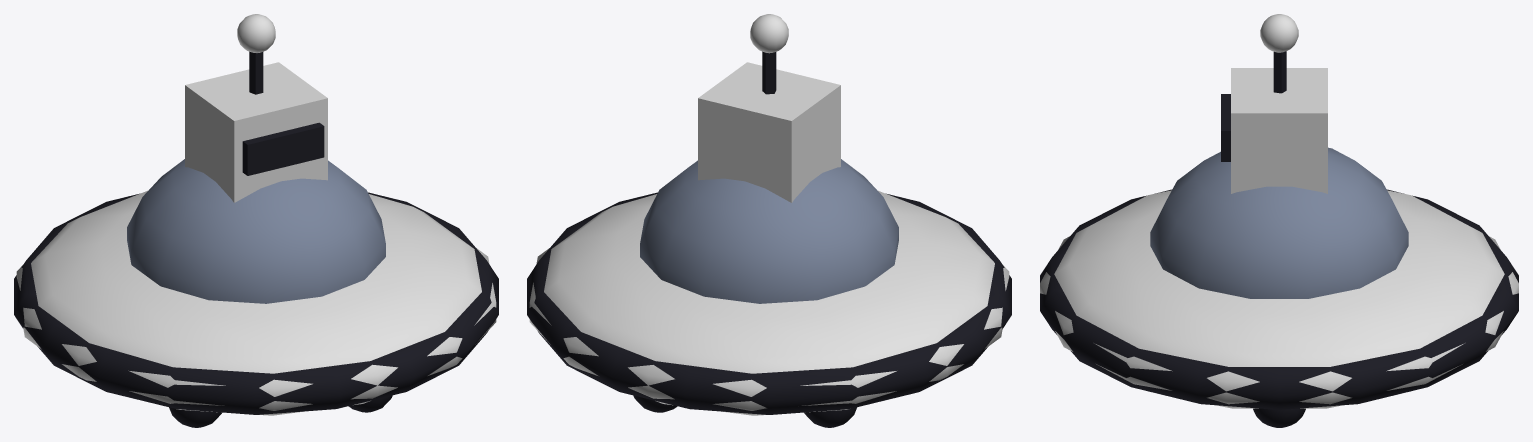
The model's file is Enemy_saucer.fbx.
3 renders of one model, left to right at view 1: azimuth 30°, elevation 25°; view 2: azimuth 150°, elevation 25°; view 3: azimuth 270°, elevation 25°, orthographic.
Visible parts, largest first — view 1: Enemy_saucer; view 2: Enemy_saucer; view 3: Enemy_saucer.
Part boxes in pixels (box(x1,y1,x2,y2)): Enemy_saucer: box(14, 14, 498, 427); Enemy_saucer: box(527, 14, 1011, 427); Enemy_saucer: box(1040, 14, 1518, 427).
Size of the model in its own units: 1 by 0.79 by 0.9848.
